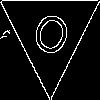O: (25, 8, 74, 68)
